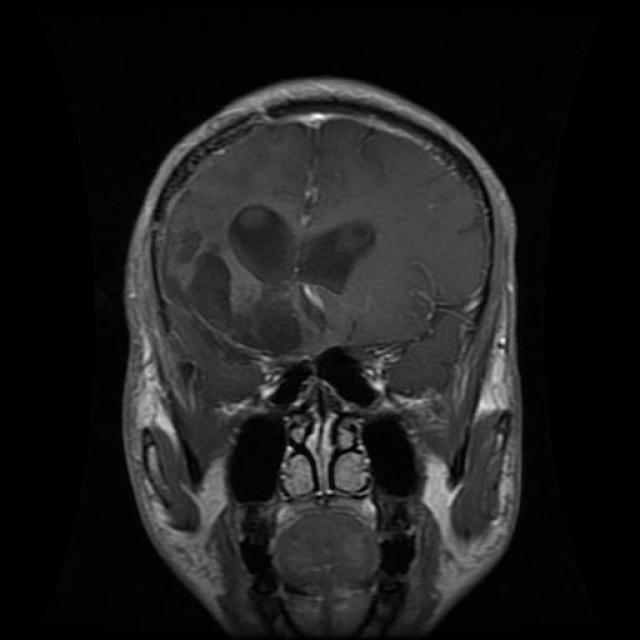Brain-Tumor: (171, 182, 390, 362)
